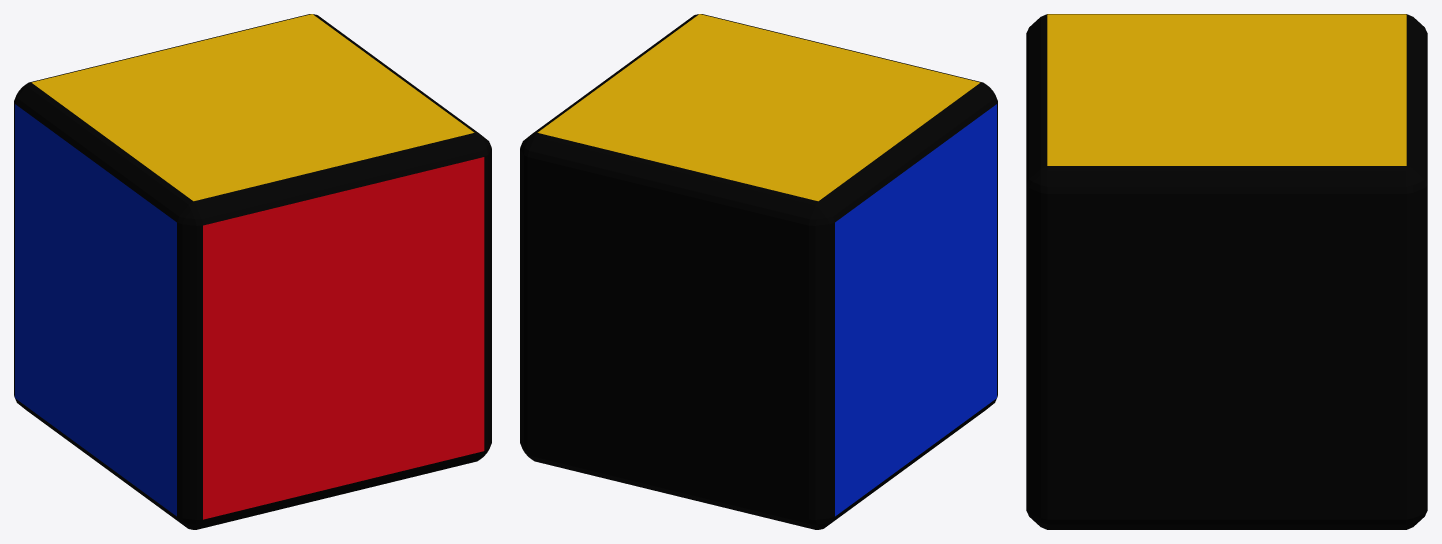
Rendered from RBY.glb.
3 views of the same model, side by side, from view 1: azimuth 30°, elevation 25°; view 2: azimuth 150°, elevation 25°; view 3: azimuth 270°, elevation 25° (orthographic). The views are drawn at different scales.
Parts seen in each view (by area): view 1: Cube; view 2: Cube; view 3: Cube.
Boxes of the visible parts, bbox=[...] form: Cube: bbox=[14, 14, 491, 529]; Cube: bbox=[520, 14, 997, 529]; Cube: bbox=[1026, 14, 1427, 529].
Bounding box in the file's own units: 2 × 2 × 2.
